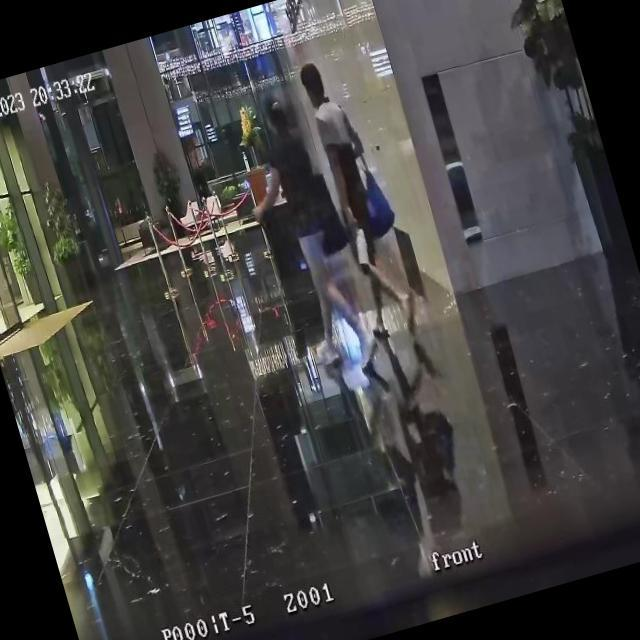person: (222, 82, 385, 388), (294, 51, 422, 342)
